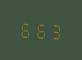six: (18, 18, 31, 39), (33, 19, 46, 40)
three: (47, 20, 60, 40)
